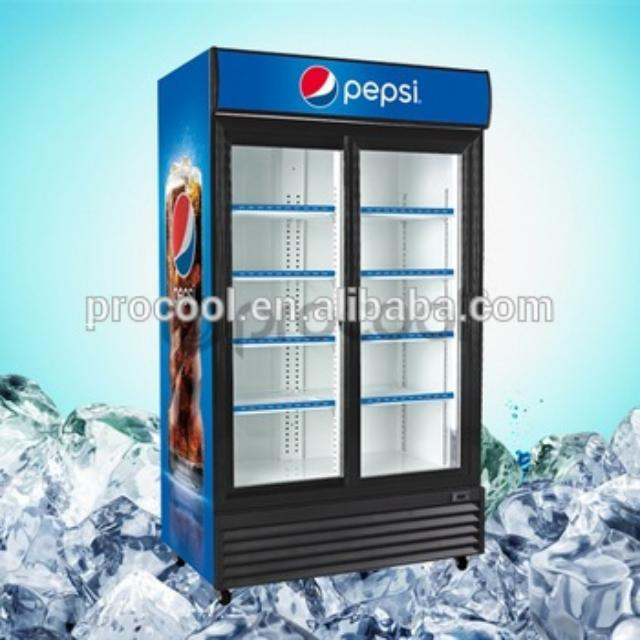Cooling-Display: (136, 39, 524, 622)
